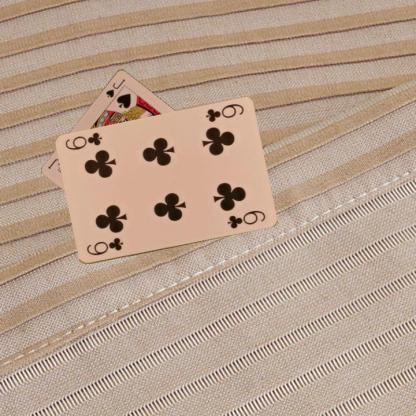6c: (203, 102, 245, 124), (84, 235, 124, 257)
Js: (104, 76, 127, 99)
